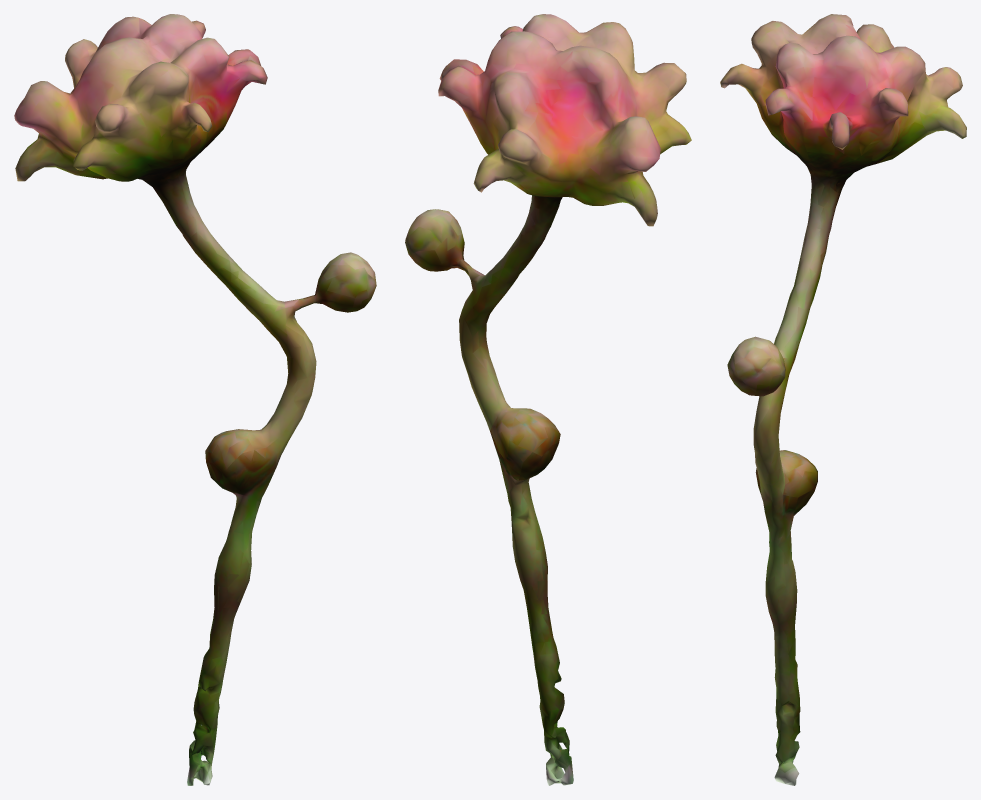
File: flower4.glb
The picture shows the model from 3 angles, left to right: view 1: azimuth 30°, elevation 25°; view 2: azimuth 150°, elevation 25°; view 3: azimuth 270°, elevation 25°; orthographic projection. The views are drawn at different scales.
Parts seen in each view (by area): view 1: flower4; view 2: flower4; view 3: flower4.
Boxes of the visible parts, left/top/right/bottom form: flower4: left=14, top=14, right=376, bottom=785; flower4: left=405, top=14, right=691, bottom=785; flower4: left=720, top=14, right=966, bottom=785.
Size of the model in its own units: 0.7181 by 1.73 by 0.5194.
1 material, 1 textured.
